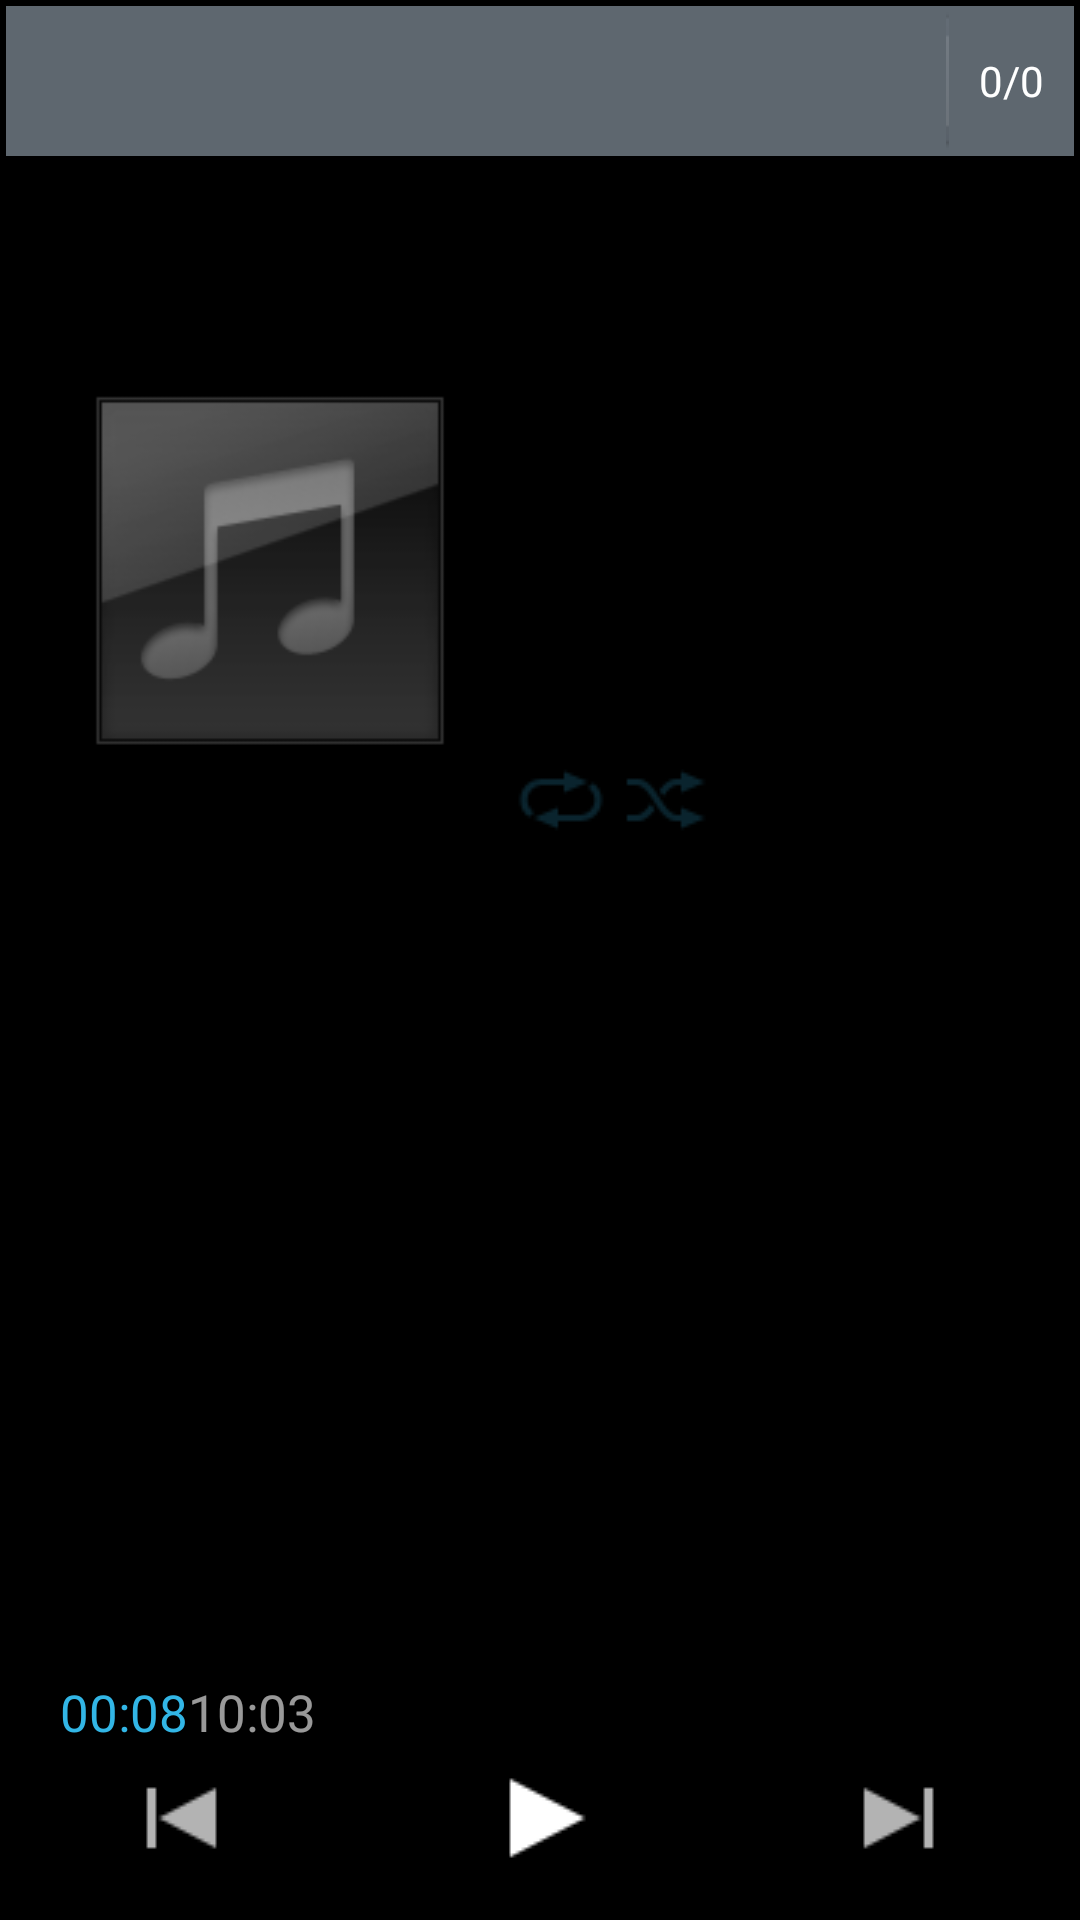

Icons on this 1080*1920 Android screen, each with the point to tap as (x,y):
comm palyandstop: (547,1818)
next: (898,1818)
play mode repeat off: (561,800)
play mode shuffle off: (664,800)
previous: (181,1818)
